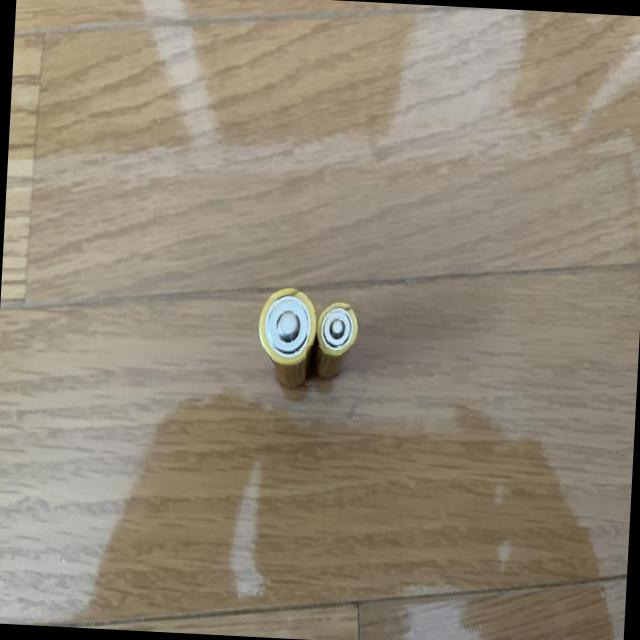Hazard: (252, 279, 325, 392), (305, 294, 364, 388)
